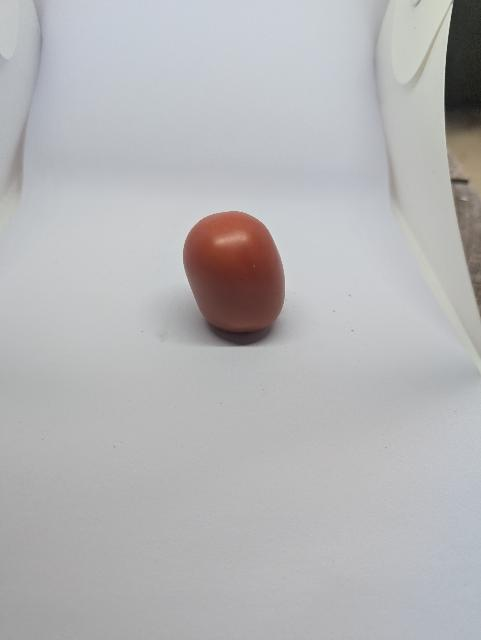red: (175, 204, 300, 340)
